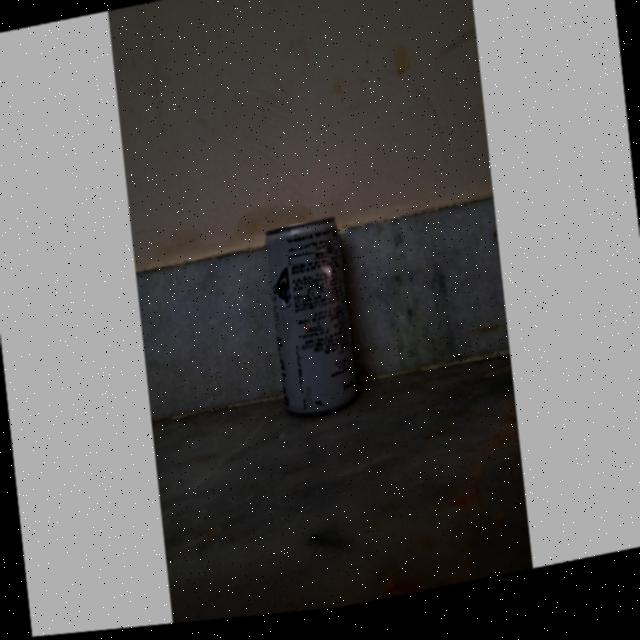Redbull Summer Edition: (254, 214, 366, 437)
